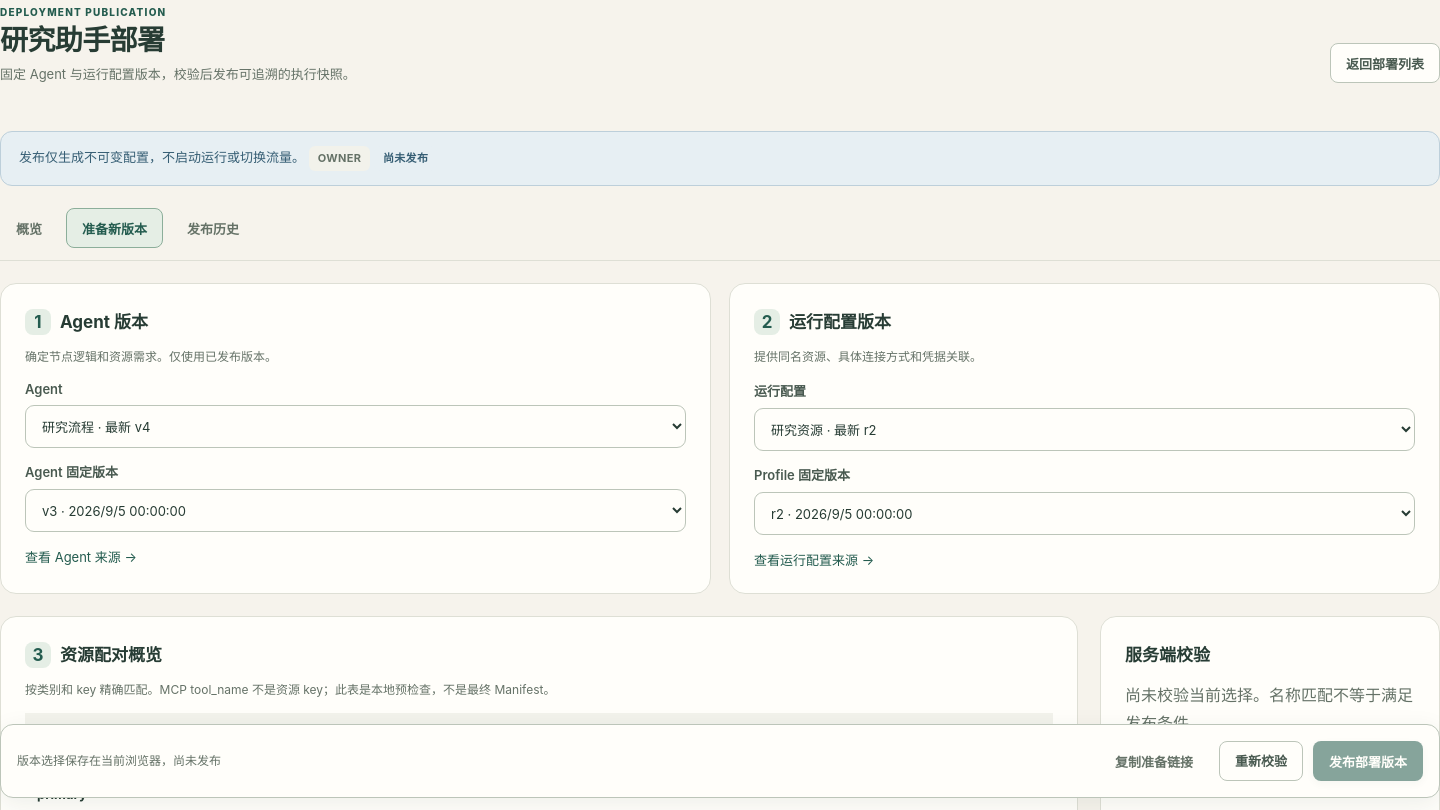
Test: Deployment publication workspace › renders publish-time 422 diagnostics and retains the selected sources
Expected: the heading "研究助手部署" is shown, [0,23,164,57]
Step 1. Click the button "重新校验" → [1261, 761], box [1219,741,1303,781]
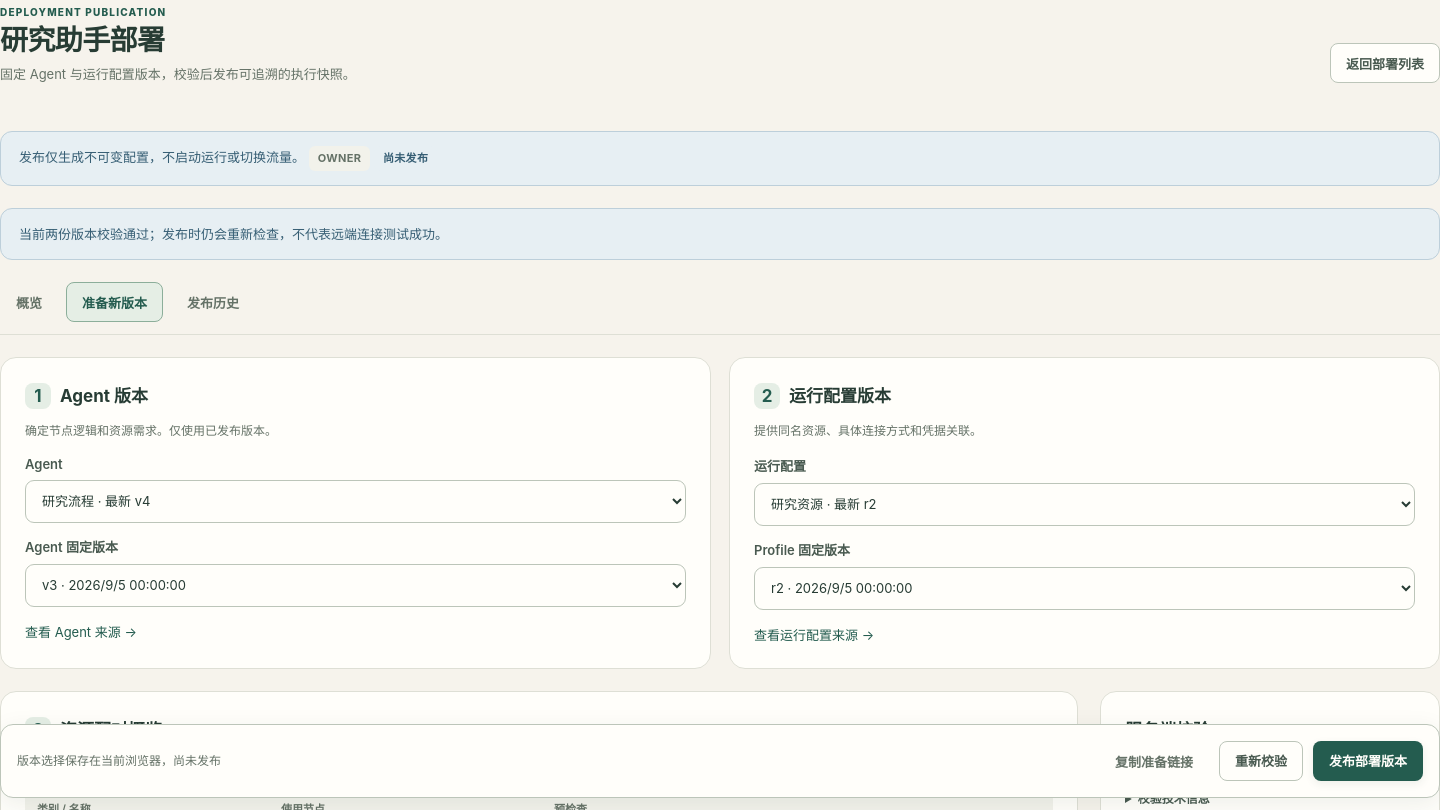
Expected: the button "发布部署版本" is enabled
Step 2. Click the button "发布部署版本" → [1368, 761], box [1313,741,1423,781]
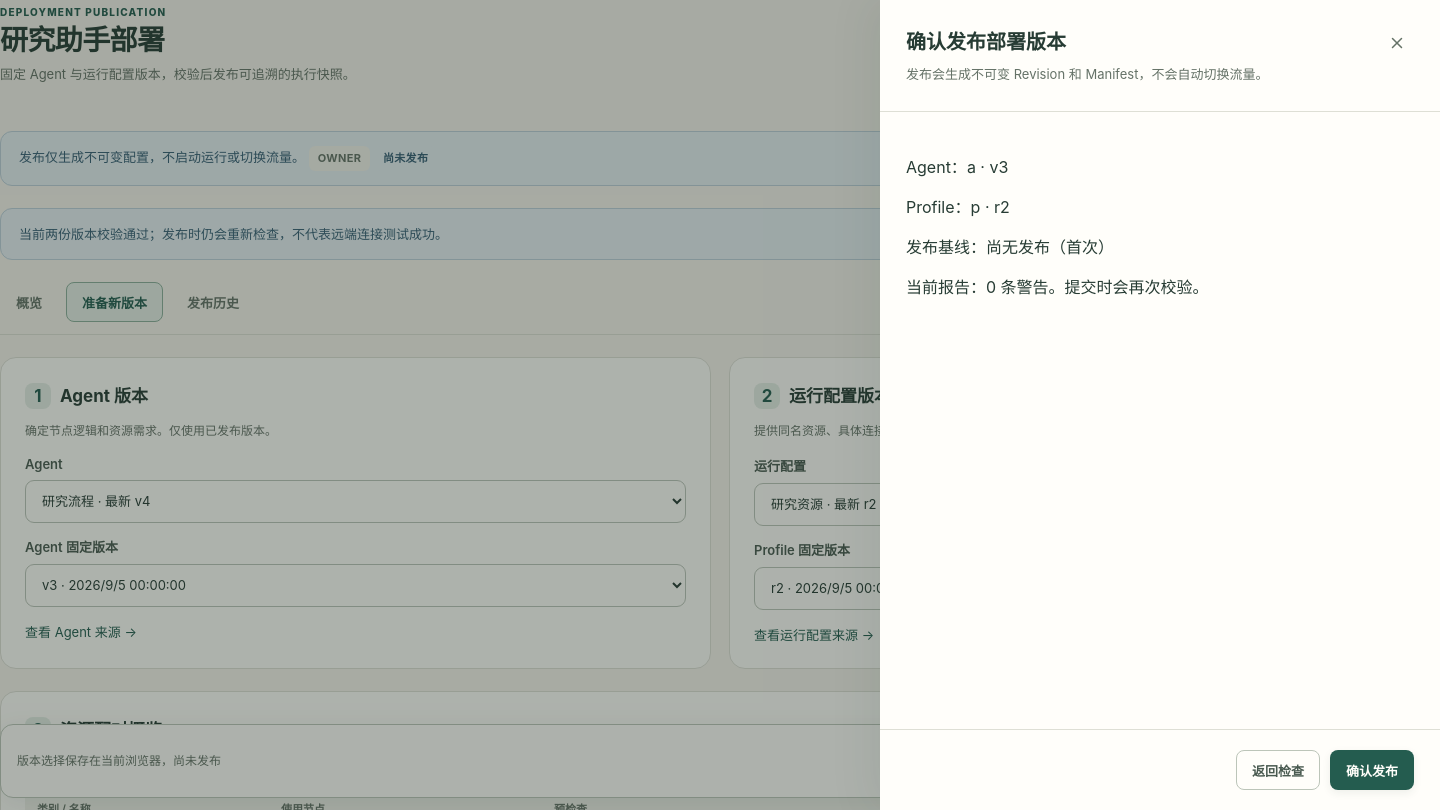
Step 3. Click the button "确认发布" → [1372, 770], box [1330,750,1414,790]
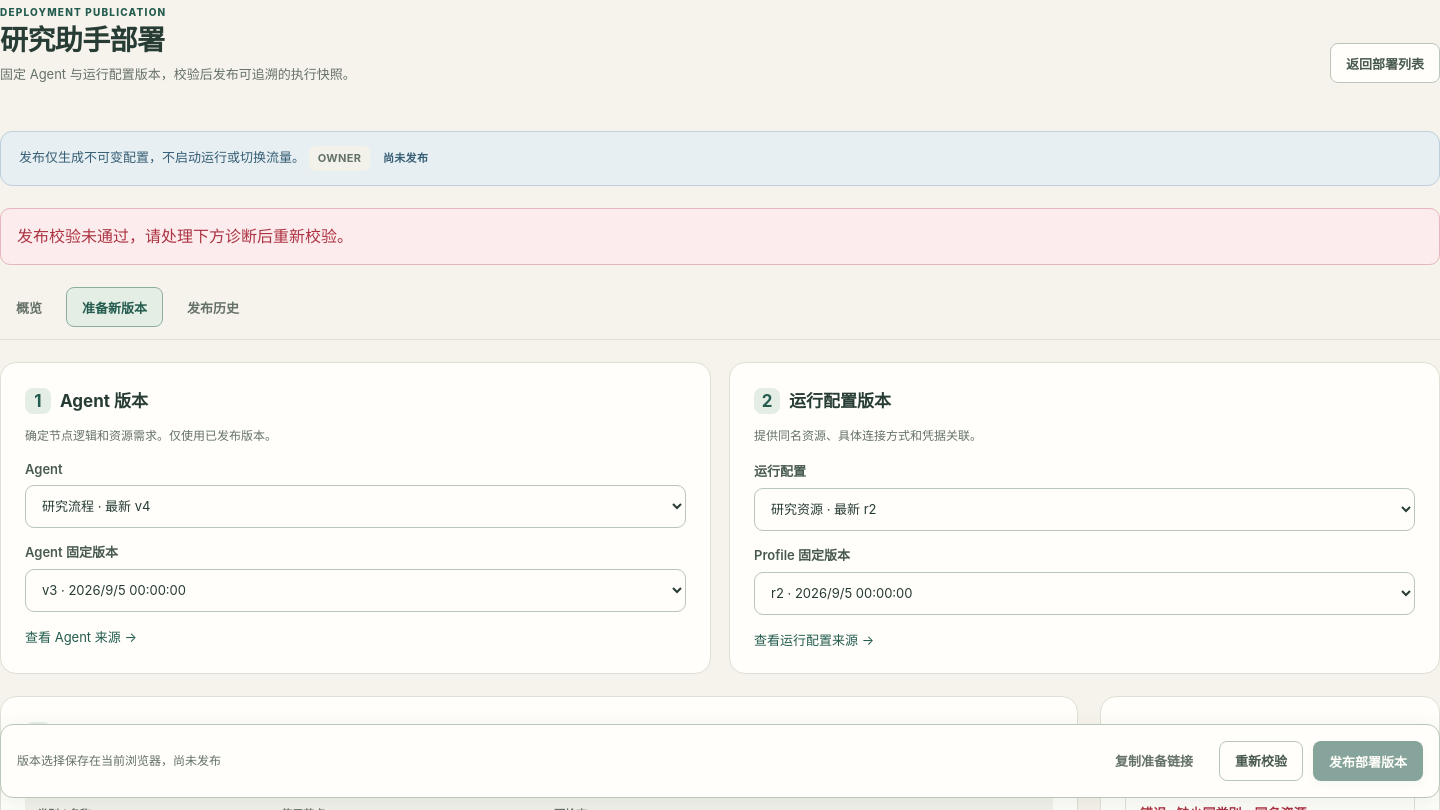
Expected: the text "校验未通过 · 1 错误 / 0 警告" is shown, [1125,757,1321,777]
Expected: the button "发布部署版本" is disabled, [1313,741,1423,781]
